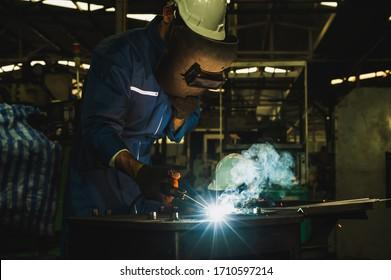gloves: (135, 160, 178, 204), (170, 95, 198, 118)
